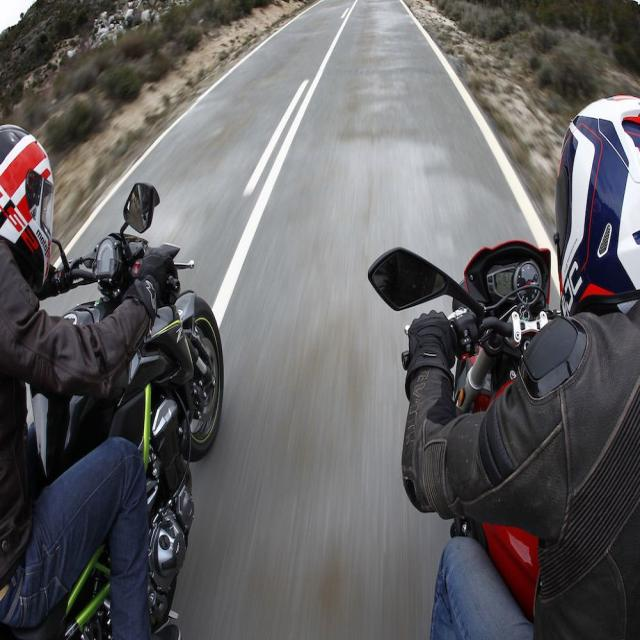MOTORCYCLE: (2, 175, 224, 639), (405, 229, 640, 638)
